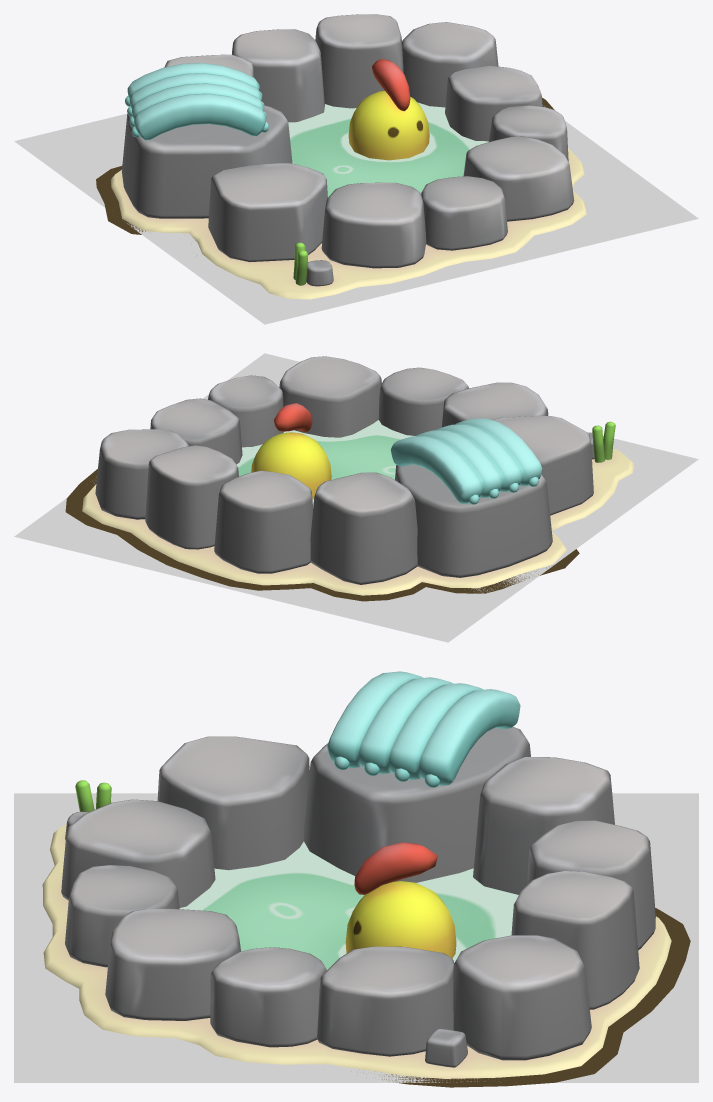
File: JP_HotSpring.fbx
3 renders of one model, top to bottom at view 1: azimuth 30°, elevation 25°; view 2: azimuth 150°, elevation 25°; view 3: azimuth 270°, elevation 25°, orthographic. The views are drawn at different scales.
Visible parts, largest first — view 1: polySurface3, HotSpring_Grid_Large, polySurface22, polySurface2, Shadow; view 2: polySurface3, HotSpring_Grid_Large, polySurface22, Shadow, polySurface2; view 3: polySurface3, HotSpring_Grid_Large, polySurface22, polySurface2, Shadow.
Part boxes in pixels (x1=…): polySurface3: x1=110, y1=14, x2=586, y2=299; HotSpring_Grid_Large: x1=14, y1=106, x2=698, y2=324; polySurface22: x1=125, y1=63, x2=268, y2=140; polySurface2: x1=348, y1=59, x2=429, y2=160; Shadow: x1=96, y1=97, x2=554, y2=234; polySurface3: x1=82, y1=356, x2=634, y2=595; HotSpring_Grid_Large: x1=14, y1=353, x2=698, y2=642; polySurface22: x1=391, y1=418, x2=542, y2=504; Shadow: x1=65, y1=469, x2=579, y2=601; polySurface2: x1=251, y1=403, x2=331, y2=499; polySurface3: x1=42, y1=727, x2=671, y2=1078; HotSpring_Grid_Large: x1=14, y1=793, x2=698, y2=1082; polySurface22: x1=327, y1=671, x2=520, y2=787; polySurface2: x1=345, y1=842, x2=456, y2=958; Shadow: x1=382, y1=907, x2=690, y2=1087.
Bounding box in the file's own units: 3.13 × 0.7502 × 3.
